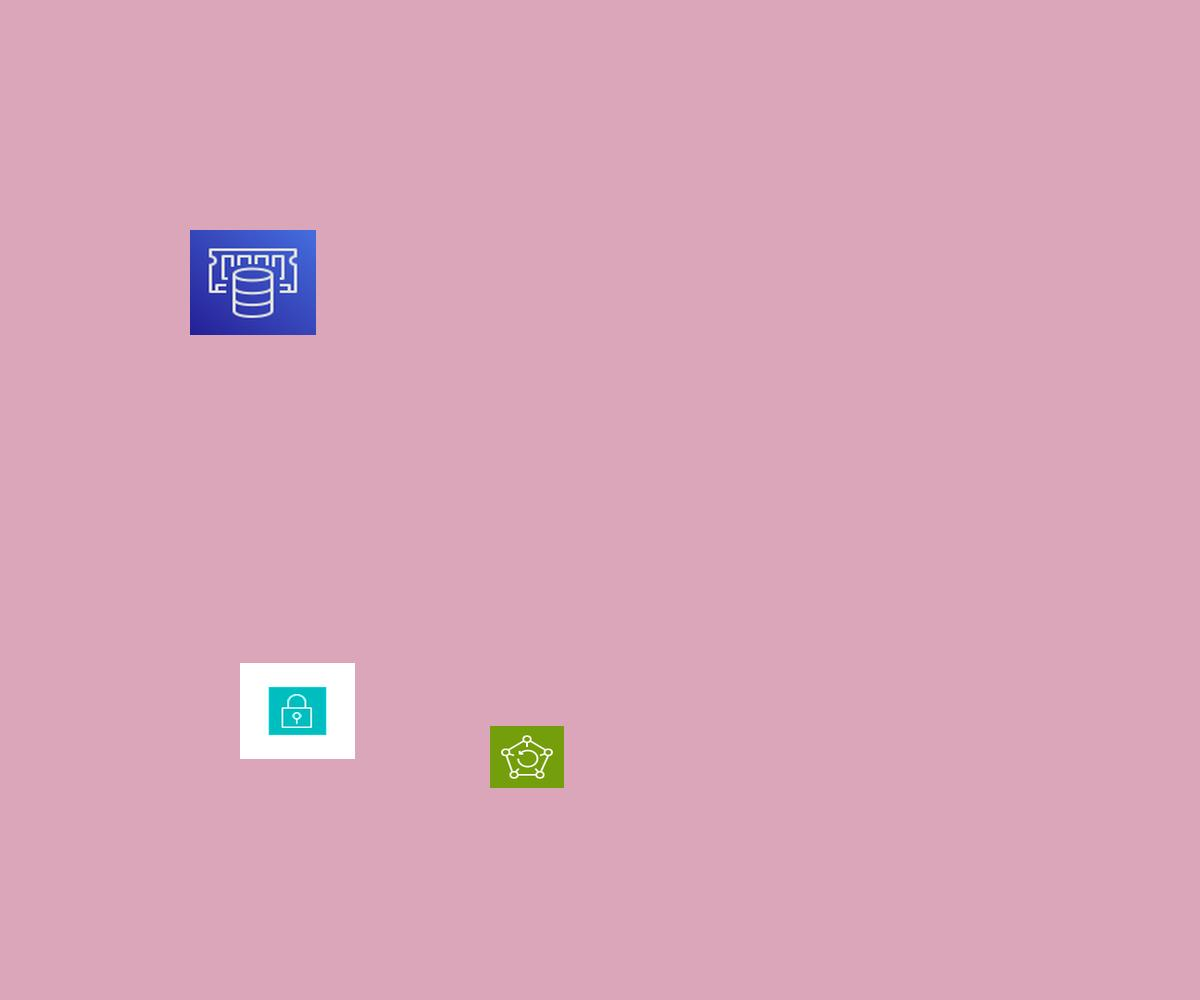AWS-Backup: (490, 726, 564, 788)
AWS-ElastiCache: (190, 230, 316, 335)
AWS-Private-subnet: (240, 663, 355, 759)
